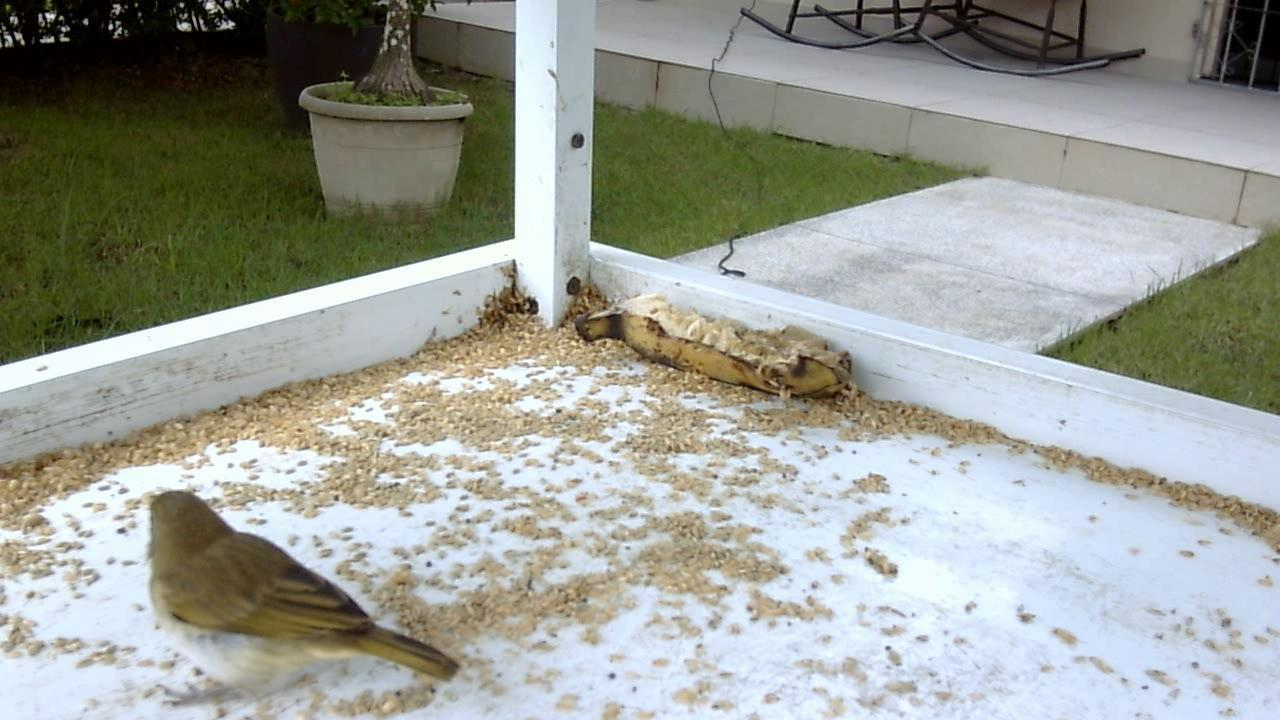canario_do_amazonas: (129, 475, 465, 718)
